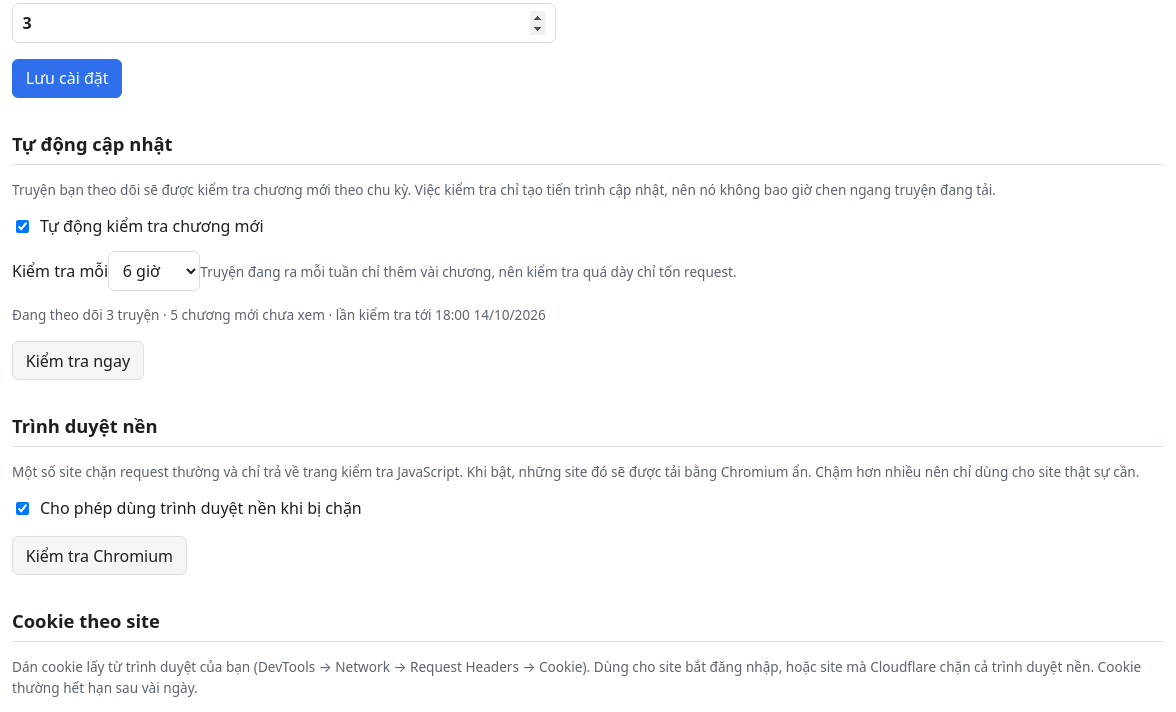
it: Settings auto update › says nothing was due rather than looking like it failed
(page scrolled)
Click the button "Kiểm tra ngay" at (78, 361), box [12,341,144,380]
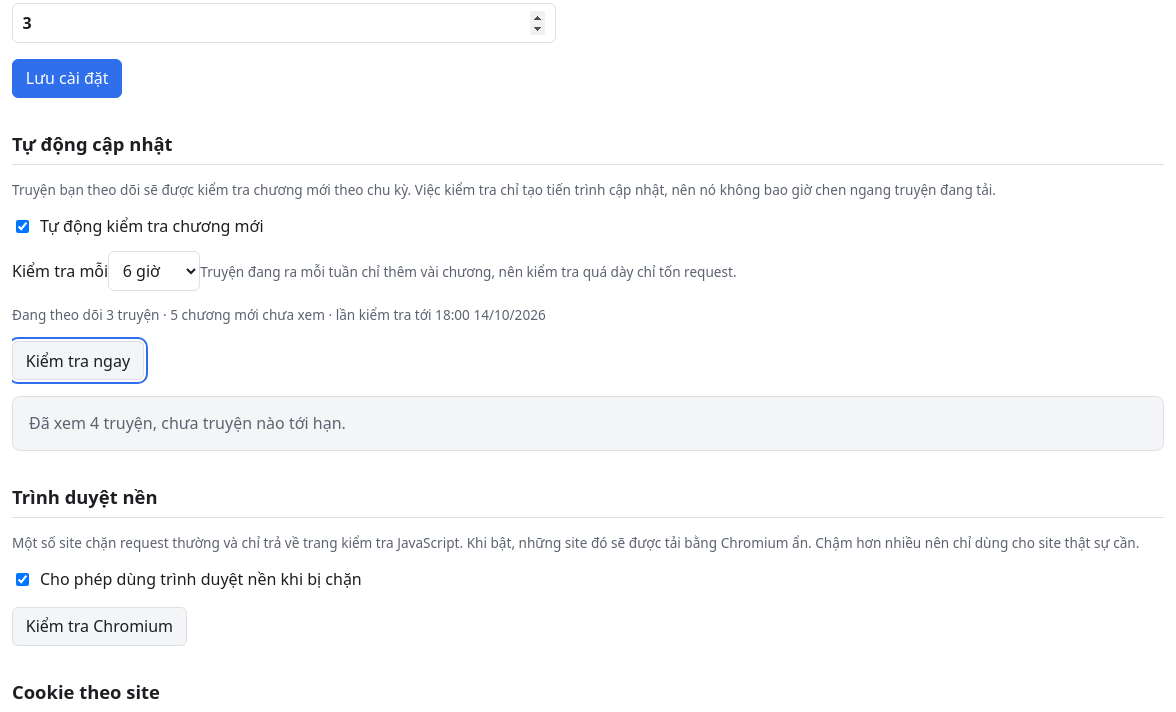
Expected: the text "Đã xem 4 truyện, chưa truyện nào tới hạn." is shown, [12,396,1164,451]
